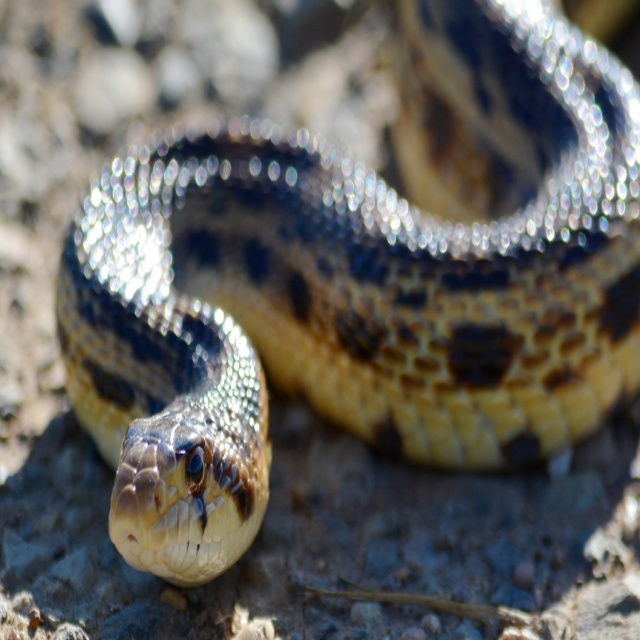Snake: (55, 1, 640, 590)
